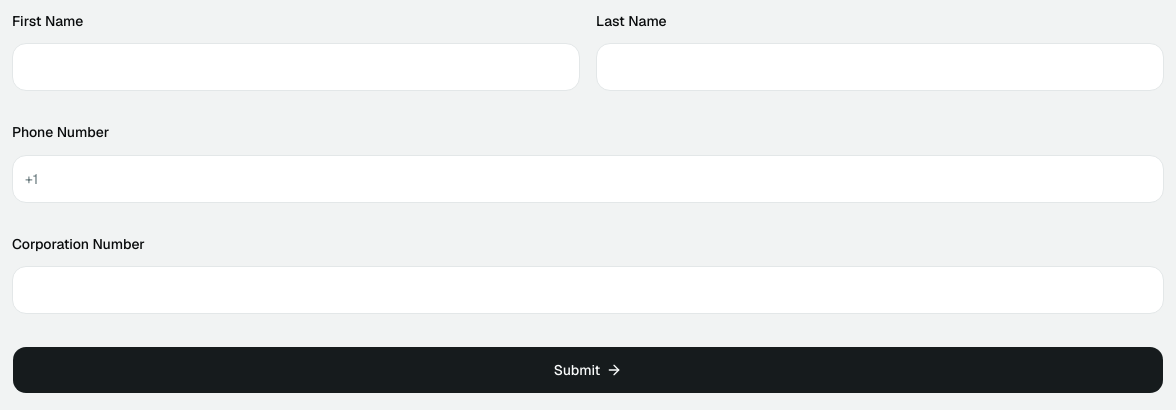
Test: OnboardingForm › shows the server error message when submission fails with 400
This screenshot has width=1176, height=410.
Type "Hello" into the field labelled "First Name" at (296, 67), box [12,43,580,91]
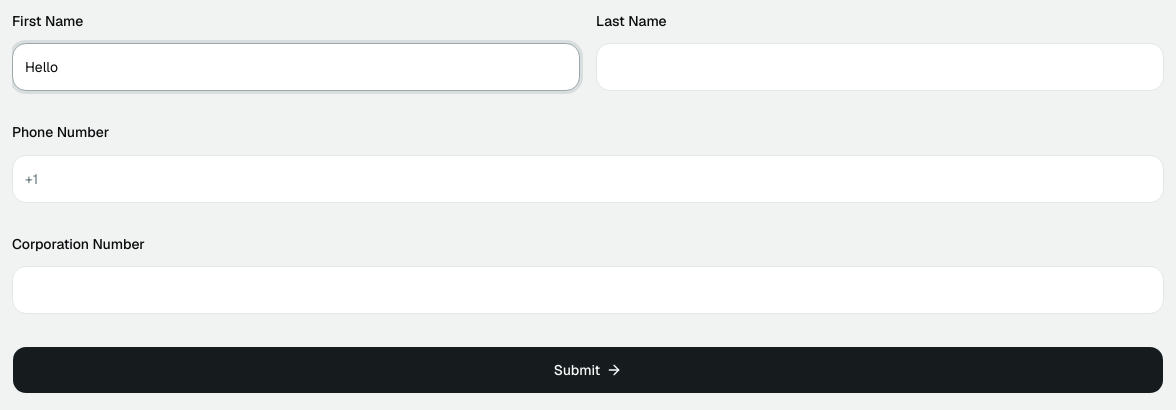
Type "World" into the field labelled "Last Name" at (880, 67), box [596,43,1164,91]
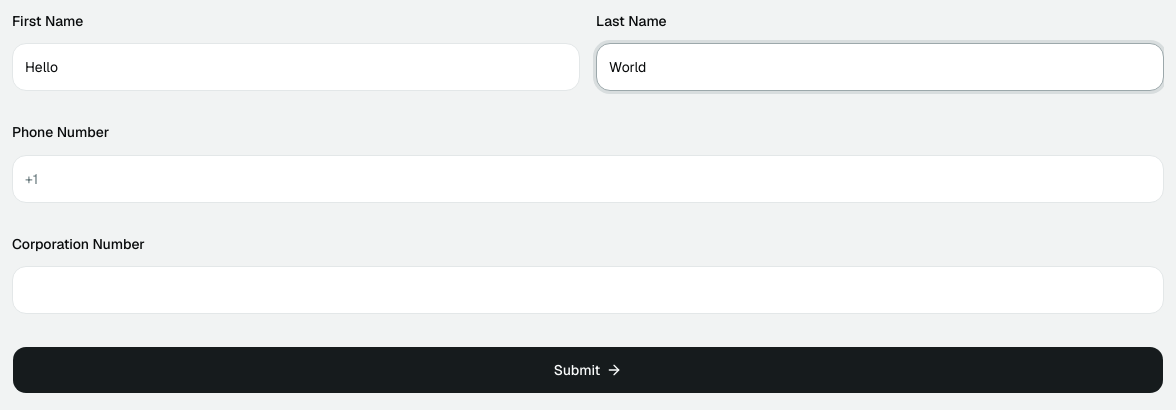
Type "3062776103" into the field labelled "Phone Number" at (588, 178), box [12,154,1164,202]
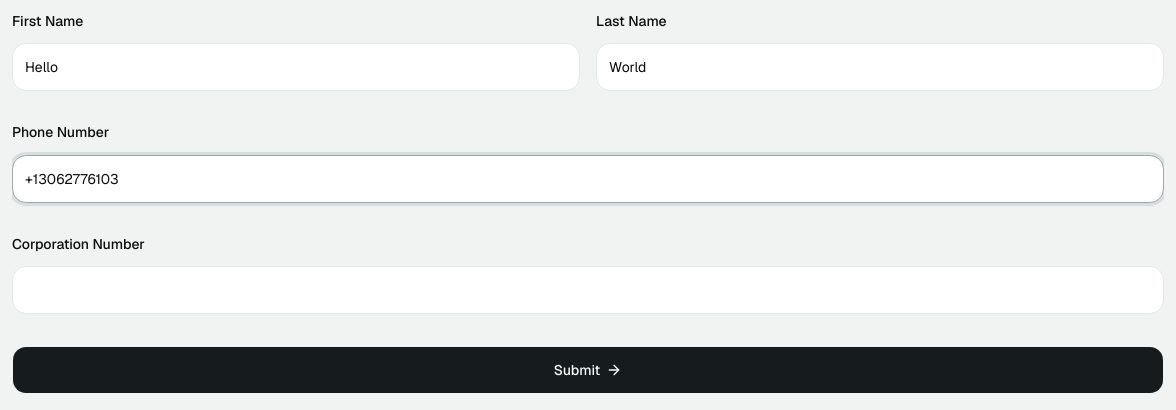
Type "826417395" into the field labelled "Corporation Number" at (588, 290), box [12,266,1164,314]
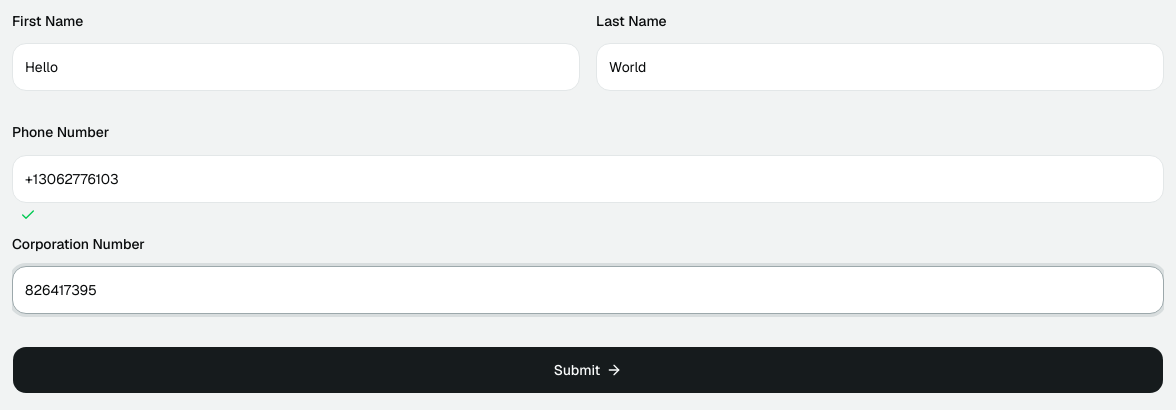
Press Tab
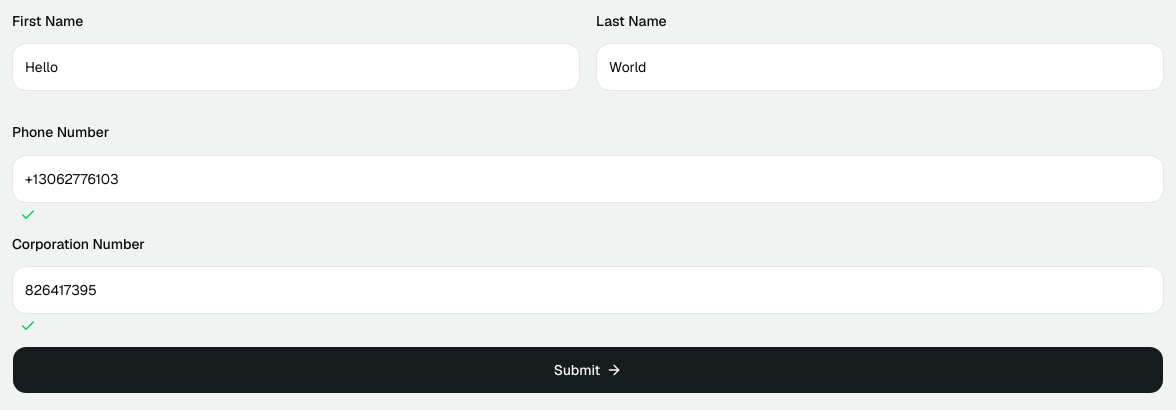
Click the button "Submit" at (588, 370), box [12,346,1164,394]
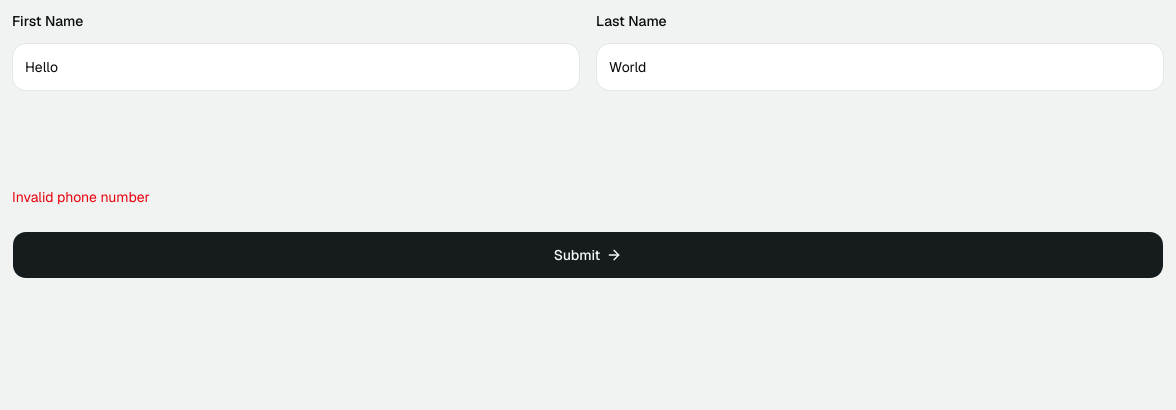
Expected: the button "Submit" is enabled, [12,231,1164,279]
Now the message reads "Invalid phone number", box [12,188,150,206]
